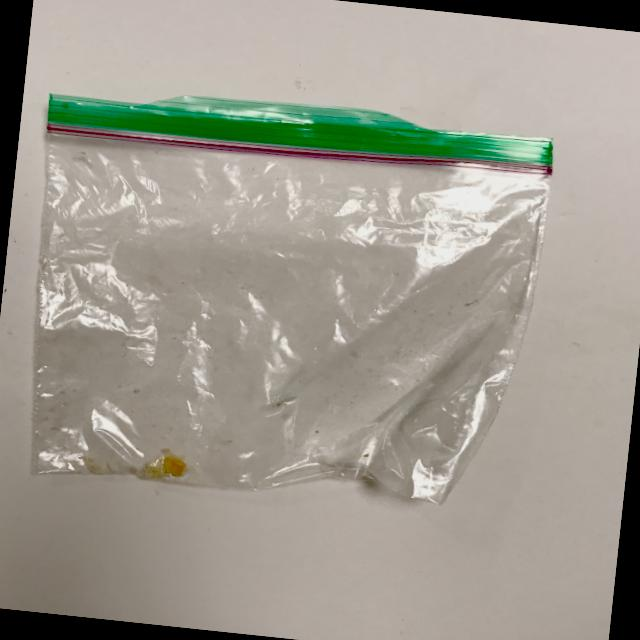Plastic: (0, 67, 561, 547)
